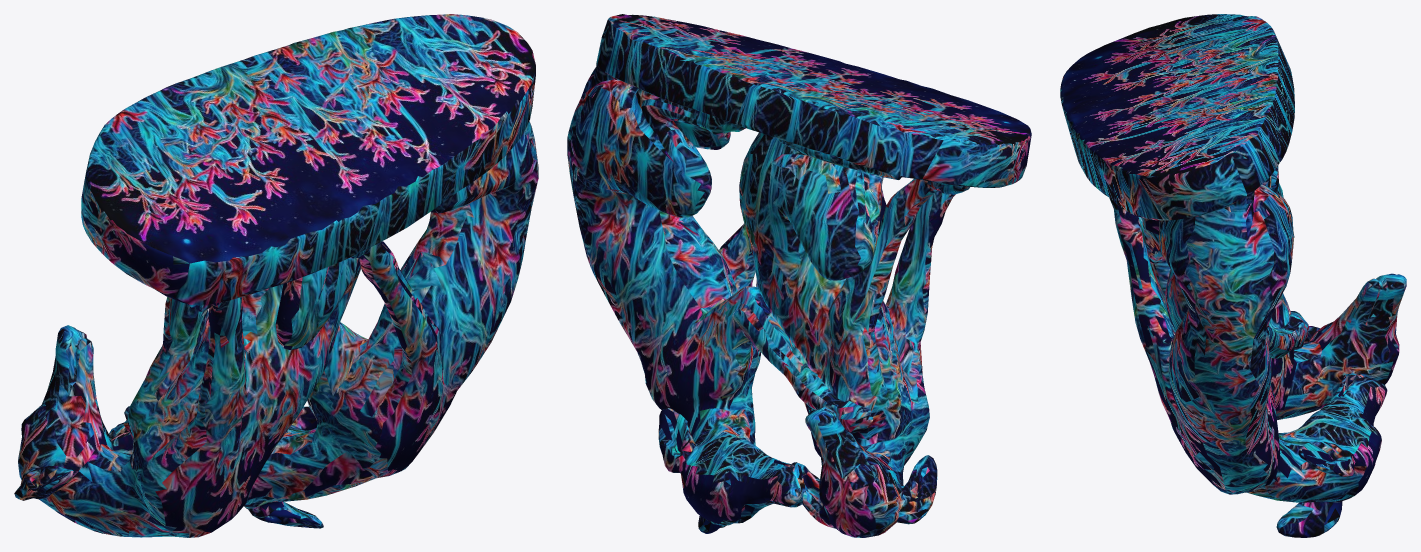
The model's file is tds_gruppe-mit-zwei-windhunden.glb.
3 views of the same model, side by side, from view 1: azimuth 30°, elevation 25°; view 2: azimuth 150°, elevation 25°; view 3: azimuth 270°, elevation 25° (orthographic). The views are drawn at different scales.
Parts seen in each view (by area): view 1: A; view 2: A; view 3: A.
Part boxes in pixels (box(x1,y1,x2,y2)): A: box(14, 14, 538, 537); A: box(567, 14, 1031, 537); A: box(1060, 14, 1406, 537).
Bounding box in the file's own units: 1.92 × 2 × 1.39.
Materials: 1 (1 with a texture image).
